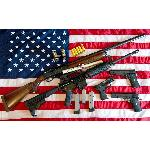Pistol: (110, 92, 144, 112), (110, 69, 140, 88), (94, 76, 115, 102)
